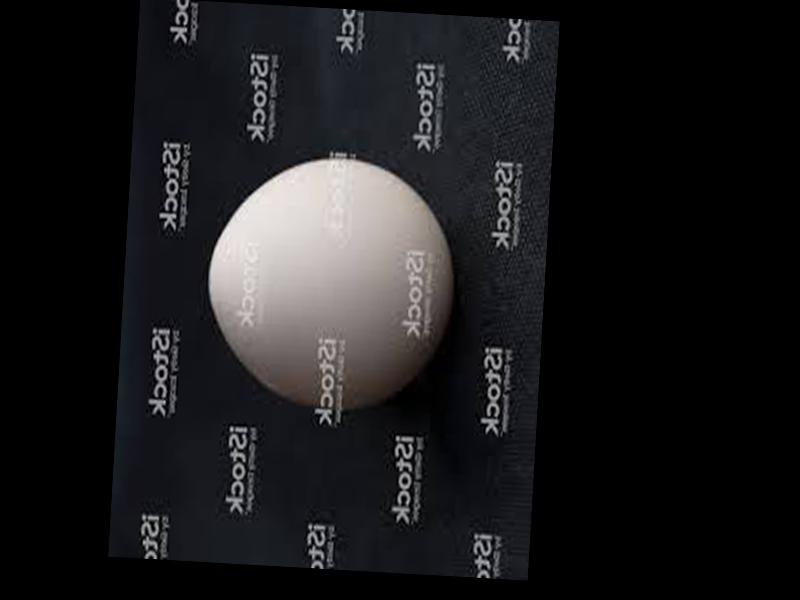Eggs: (201, 151, 462, 416)
